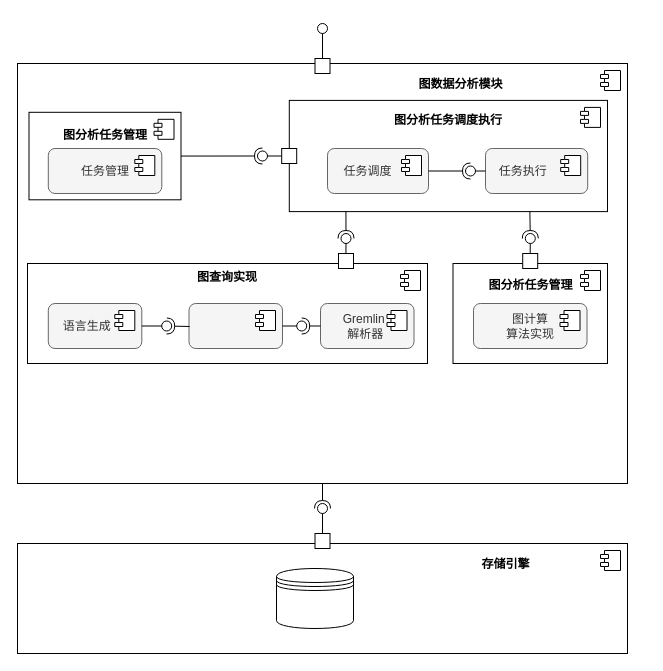
This 663x671 diagram has some shape labels left out. Each missing label, with the centre of its shape:
Gremlin 逻辑分析: the point at 235,325
数据库实例: the point at 315,598
